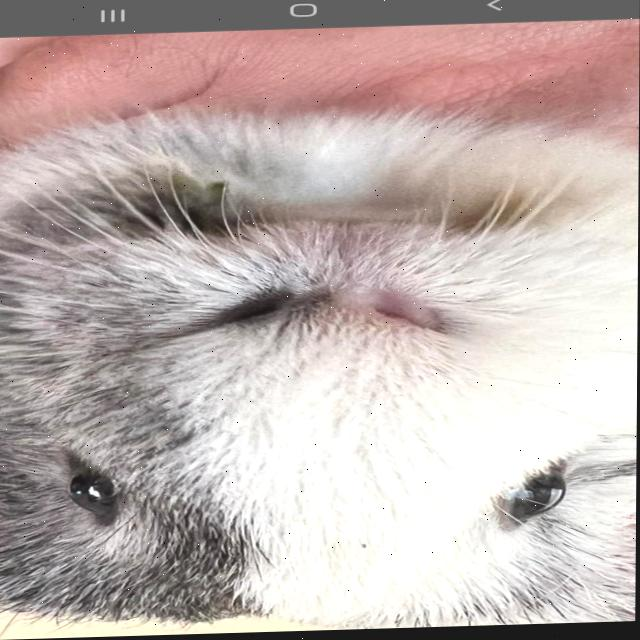guinea pig: (0, 105, 639, 640)
